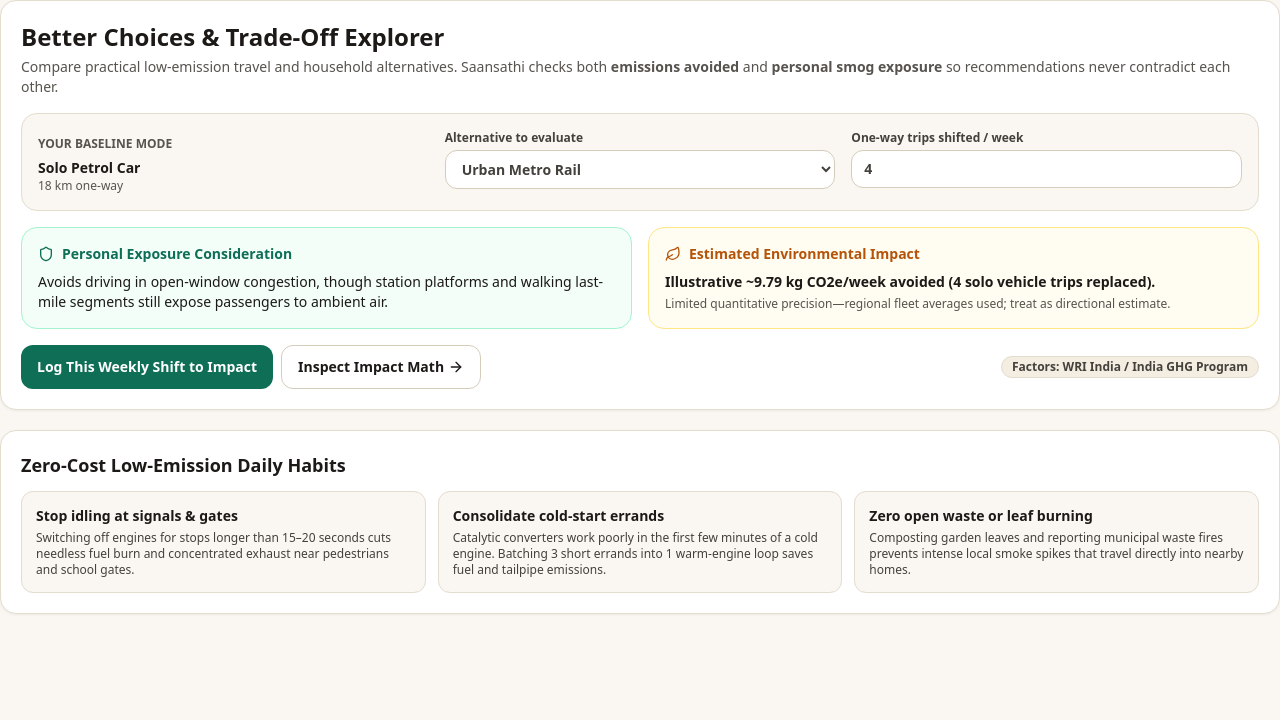
Test: UI Screens & Accessible Visualizations › recalculates and logs weekly commute shifts in ChoicesScreen
The width and height of the screenshot is (1280, 720).
Replace the text in the number field labelled "One-way trips shifted / week" with "6": [1047, 169] box [851,150,1242,188]
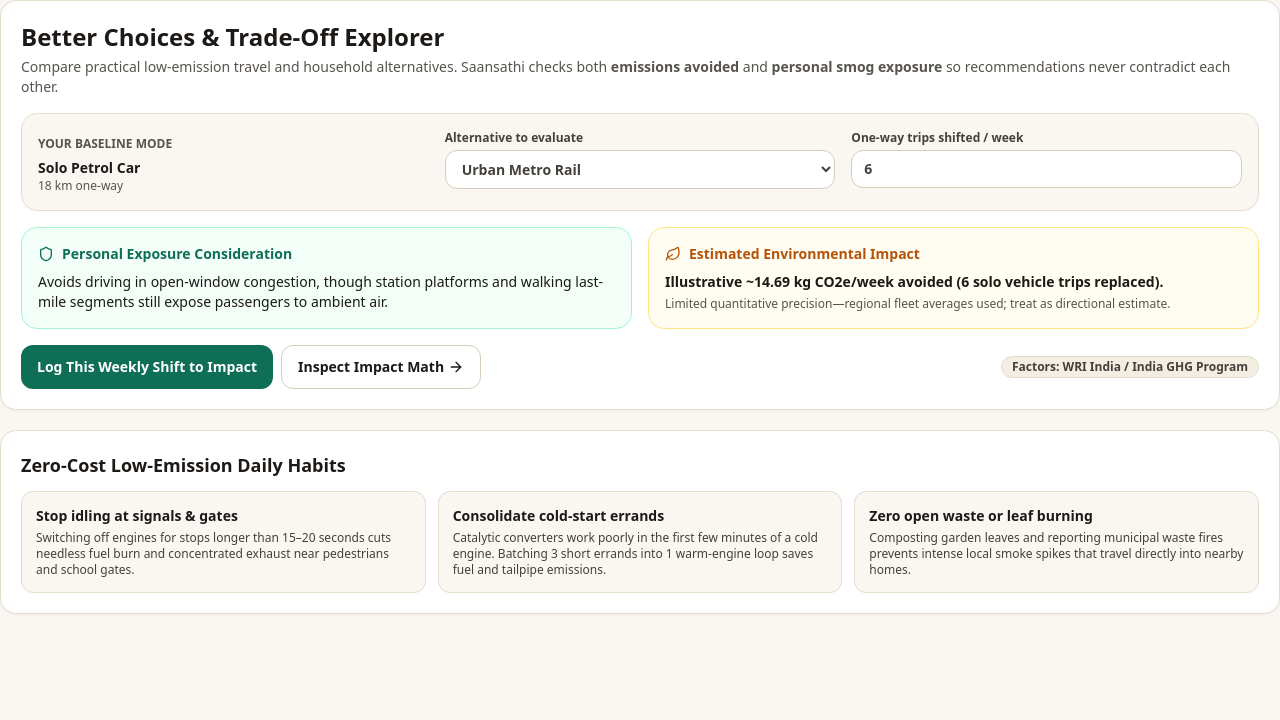
Click the button "Log This Weekly Shift to Impact": [147, 367] box [21,345,273,389]
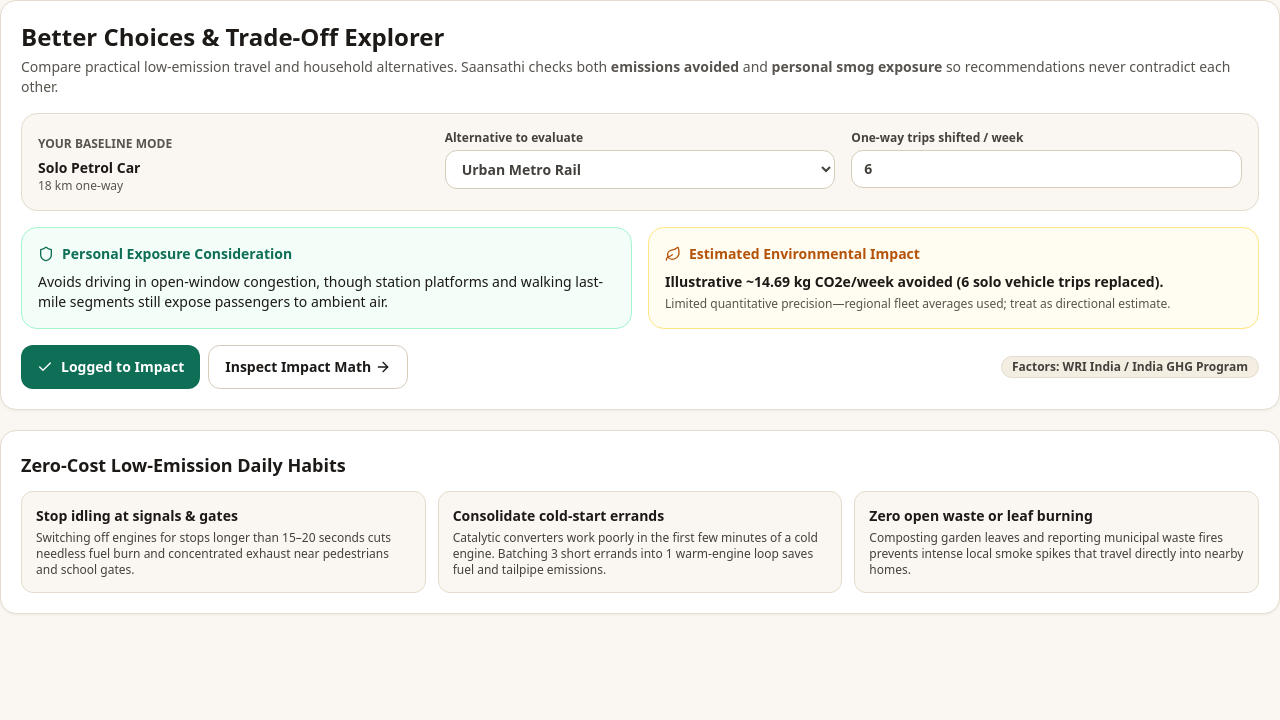
Result: the button "Logged to Impact" is shown at [21,345,200,389]
